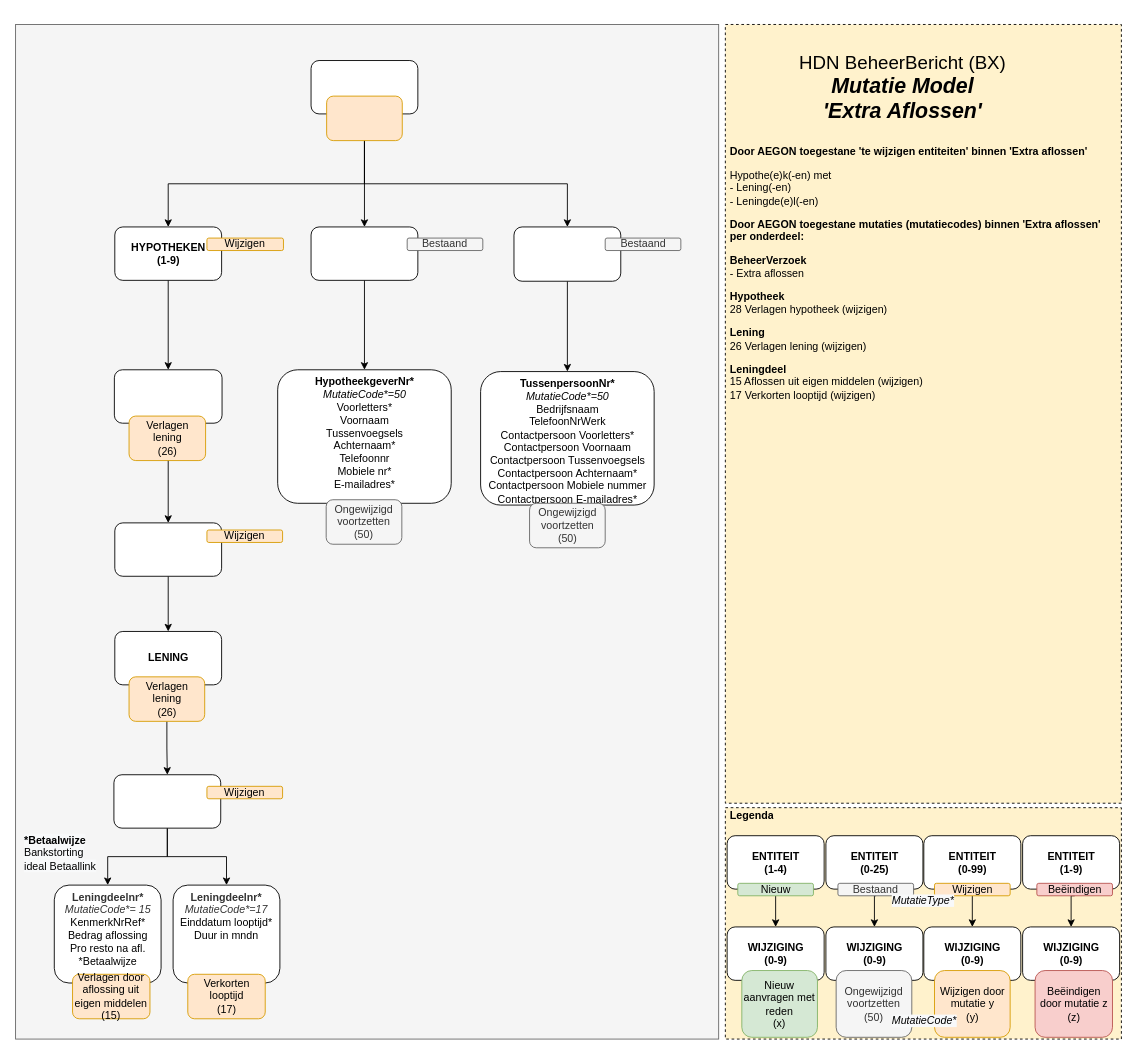
The diagram is 1137 pixels wide and 1055 high, and some of its shapes have lost their labels. Here are the shapes that lost their labels. From the top down, the centre of each, then its label:
At point 364,87: "BEHEER VERZOEK (1-1)".
At point 364,118: "Extra aflossen".
At point 364,253: "HYPOTHEEK- GEVER (1-9)".
At point 567,253: "TUSSEN- PERSOON (1-1)".
At point 167,396: "HYPOTHEEK".
At point 168,549: "LENING (1-9)".
At point 167,801: "LENINGDEEL (0-25)".
